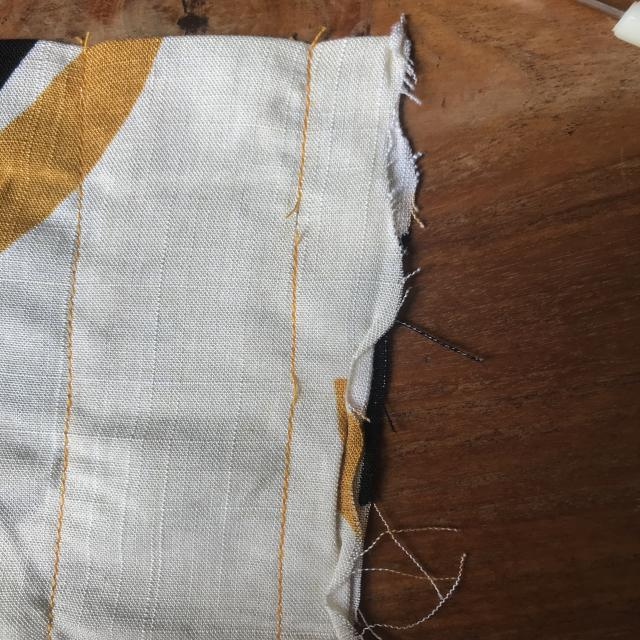broken: (269, 182, 321, 259)
skip: (251, 358, 317, 428)
